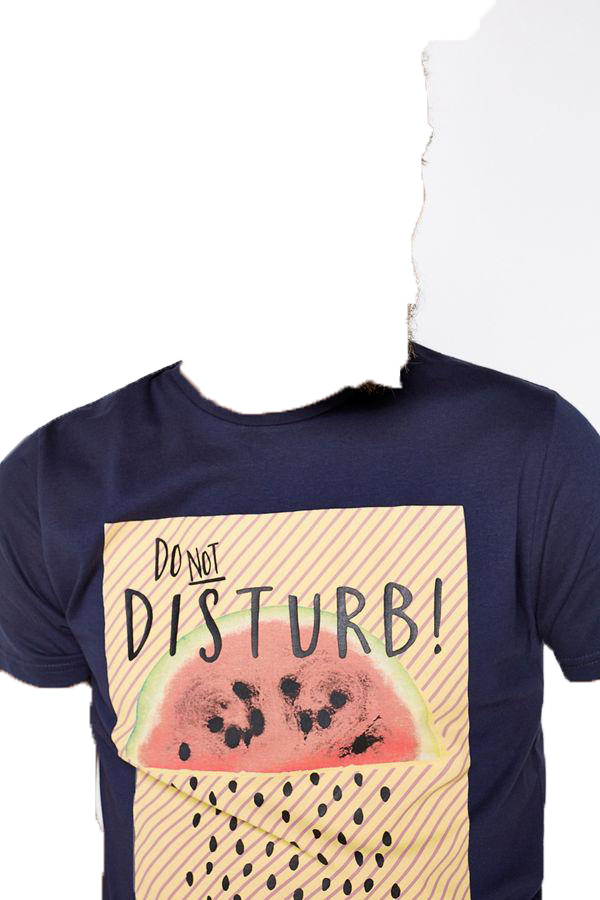teeshirt: (1, 337, 600, 897)
